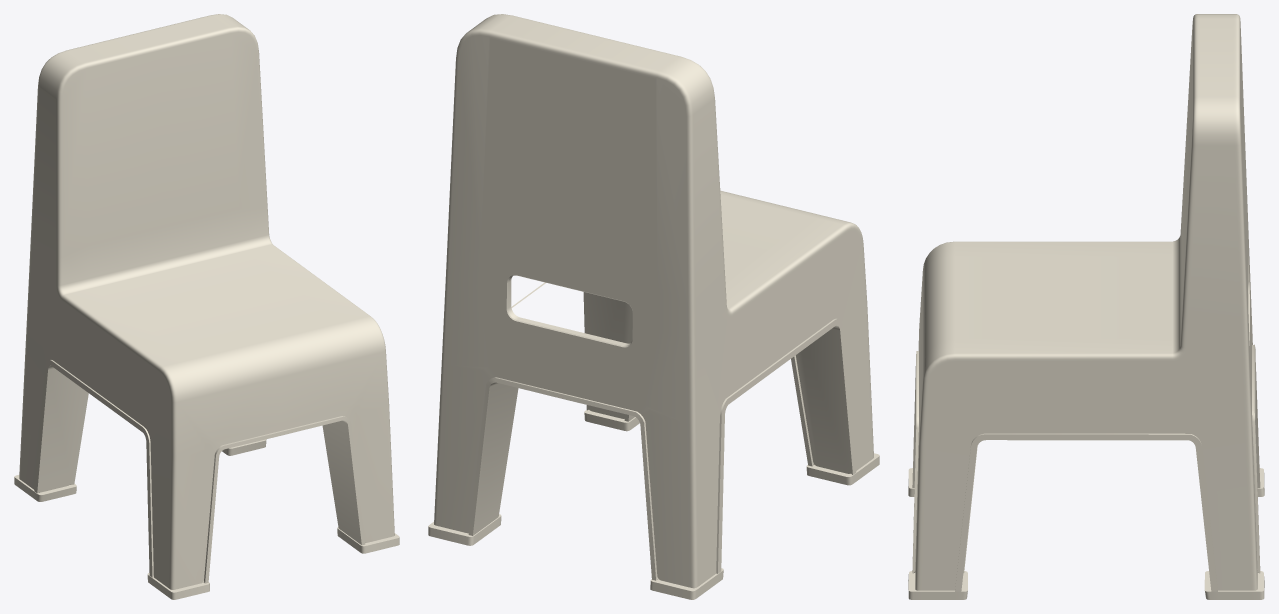
The model's file is BHID01216.glb.
3 renders of one model, left to right at view 1: azimuth 30°, elevation 25°; view 2: azimuth 150°, elevation 25°; view 3: azimuth 270°, elevation 25°, orthographic. The views are drawn at different scales.
Parts seen in each view (by area): view 1: BP_BHID01216; view 2: BP_BHID01216; view 3: BP_BHID01216.
Boxes of the visible parts, box(x1,y1,x2,y2) form: BP_BHID01216: box(14, 14, 399, 599); BP_BHID01216: box(428, 14, 879, 599); BP_BHID01216: box(908, 14, 1264, 599).
Bounding box in the file's own units: 0.3202 × 0.5795 × 0.3894.
